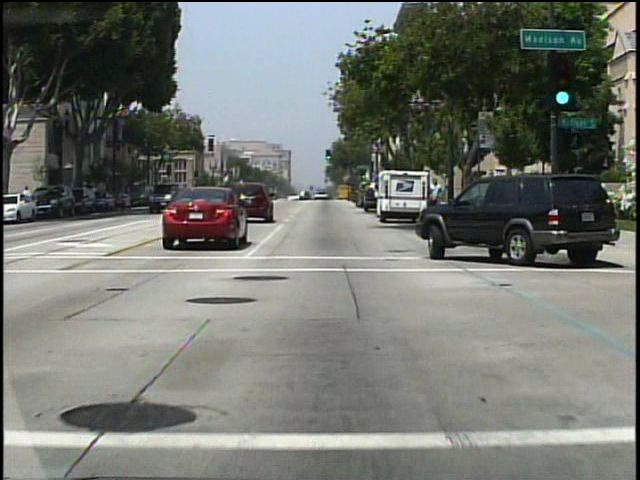person: (425, 177, 444, 220), (350, 184, 364, 211), (23, 182, 34, 211)
